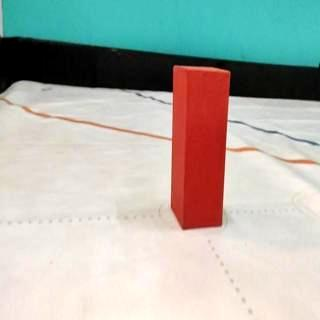redbox: (174, 67, 226, 227)
